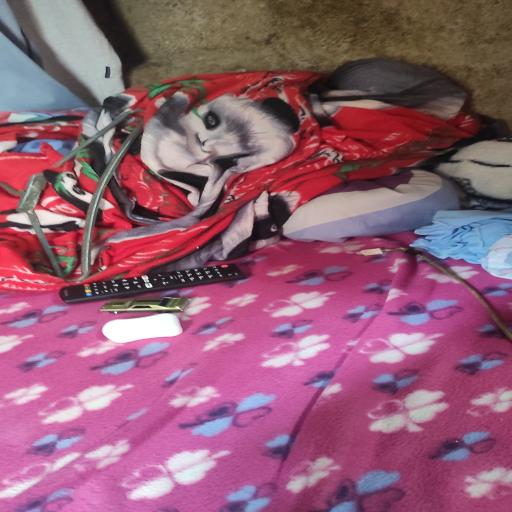Carrito: (100, 297, 190, 314)
